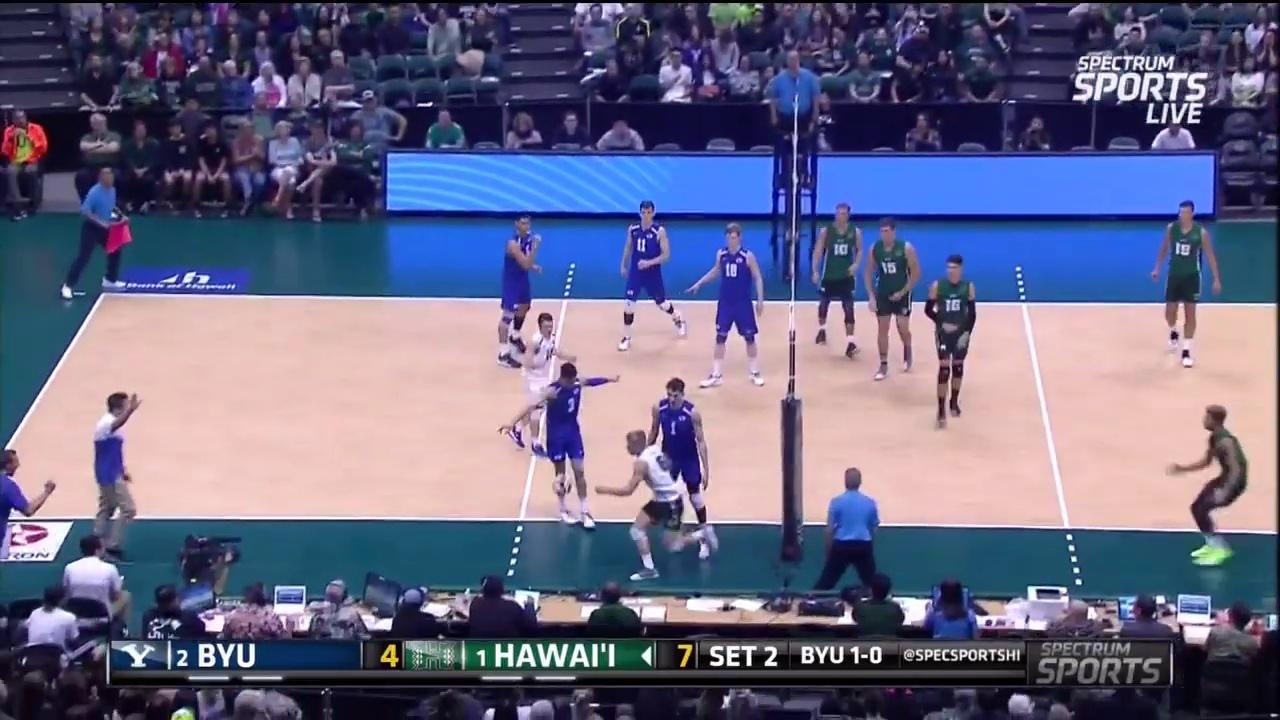player: (522, 365, 621, 527), (604, 429, 709, 579), (1169, 406, 1250, 568), (694, 223, 771, 388), (649, 377, 718, 558), (1153, 204, 1220, 365), (617, 205, 682, 349), (810, 199, 867, 361), (927, 253, 979, 429), (510, 306, 570, 458), (868, 218, 917, 378), (497, 217, 541, 363)
refree: (63, 164, 134, 302), (817, 463, 884, 600), (768, 48, 821, 188)
